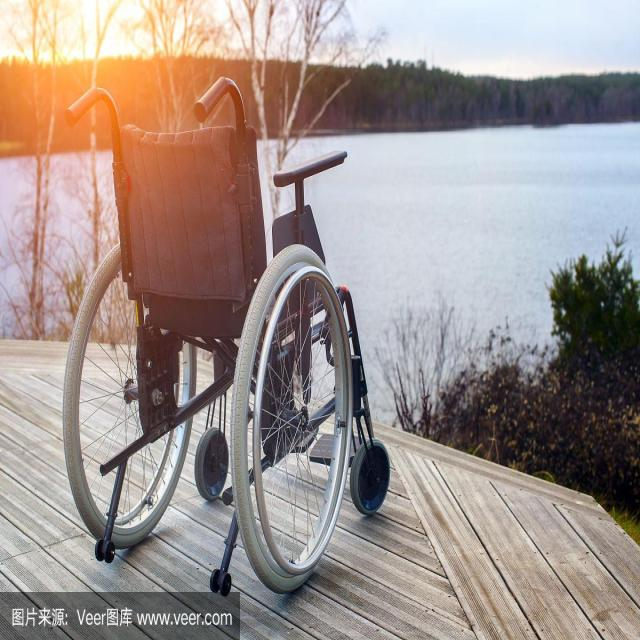wheelchairs: (45, 73, 391, 589)
